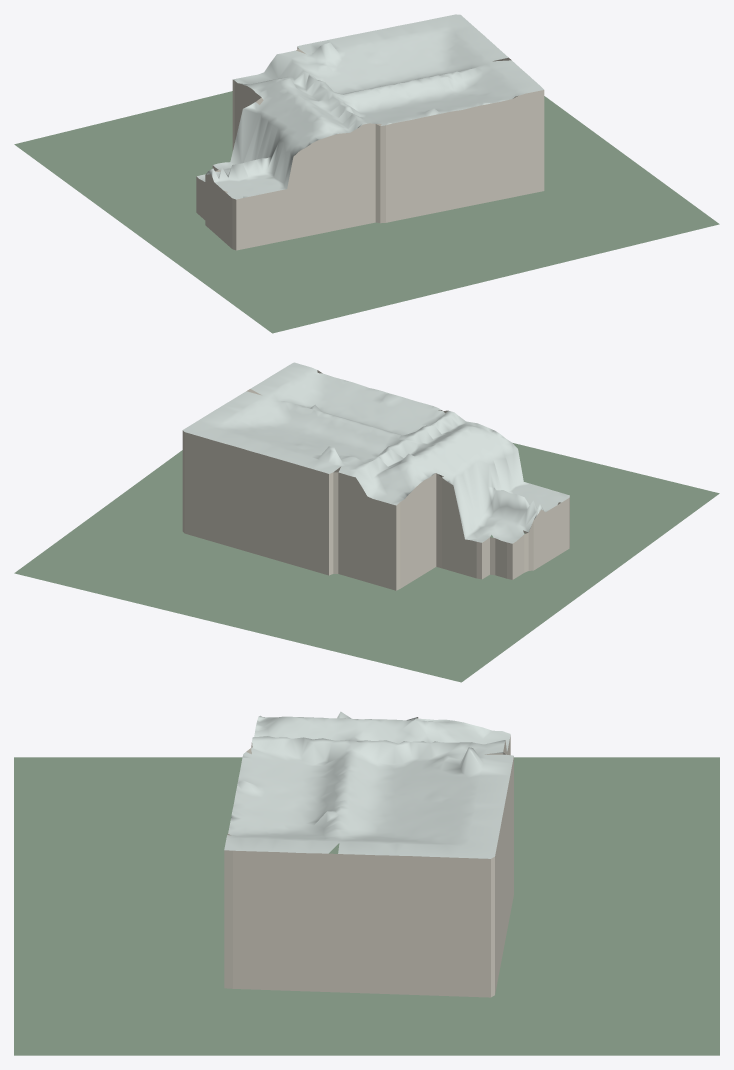
3 renders of one model, top to bottom at view 1: azimuth 30°, elevation 25°; view 2: azimuth 150°, elevation 25°; view 3: azimuth 270°, elevation 25°, orthographic. The views are drawn at different scales.
Parts seen in each view (by area): view 1: presentation-ground, inferred-walls, observed-roof; view 2: presentation-ground, inferred-walls, observed-roof; view 3: presentation-ground, inferred-walls, observed-roof.
Part boxes in pixels (bbox=[...]): presentation-ground: bbox=[14, 91, 719, 333]; inferred-walls: bbox=[196, 47, 544, 250]; observed-roof: bbox=[197, 14, 543, 199]; presentation-ground: bbox=[14, 443, 719, 682]; inferred-walls: bbox=[182, 370, 569, 590]; observed-roof: bbox=[183, 362, 569, 543]; presentation-ground: bbox=[14, 757, 719, 1055]; inferred-walls: bbox=[224, 717, 513, 997]; observed-roof: bbox=[224, 711, 513, 858].
Size of the model in its own units: 44 by 10.74 by 44.
